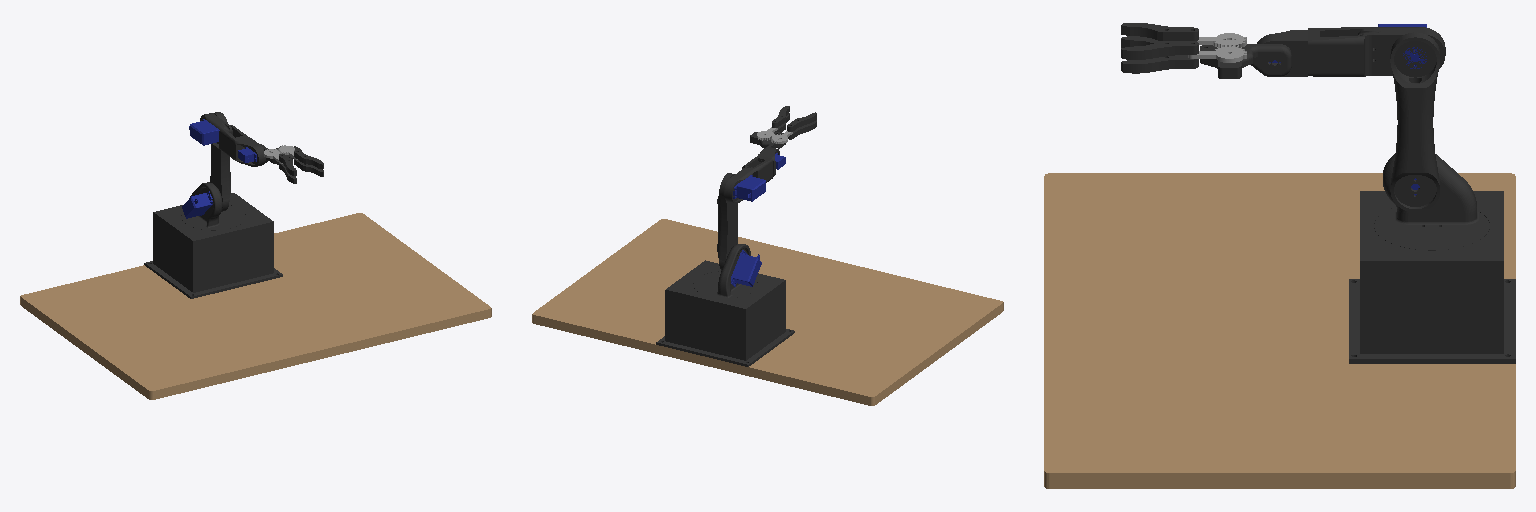
--- What the picture shows (computed from the rendered views, not written in the file) ---
3 views of the same robot in one strip: view 1: azimuth 30°, elevation 25°; view 2: azimuth 150°, elevation 25°; view 3: azimuth 270°, elevation 25° (orthographic).
Robot: robotic_arm — 17 links, 16 joints (6 revolute, 10 fixed); root link world; default pose: all joints at 0.
Visible links, largest first — view 1: base_link, base_v2_1, waist_v6_1, link_1_v5_1, link_2a_v4_1, servomotormg996r_v2_3, servomotormg996r_v2_2; view 2: base_link, base_v2_1, waist_v6_1, link_1_v5_1, link_2a_v4_1, servomotormg996r_v2_2, servomotormg996r_v2_3; view 3: base_link, base_v2_1, link_1_v5_1, waist_v6_1, link_2a_v4_1, gripper_base_v8_1, link_2b_v4_1, gripper_v3_1, gripper_v3_4, gripper_v3_2, gripper_gear_1_v2_1, gripper_gear_2_v2_1.
Link boxes in pixels (x1,y1,x2,y2): base_link: (20, 213, 491, 399); base_v2_1: (144, 193, 282, 298); waist_v6_1: (181, 182, 245, 230); link_1_v5_1: (210, 112, 230, 211); link_2a_v4_1: (200, 113, 249, 160); servomotormg996r_v2_3: (189, 119, 219, 145); servomotormg996r_v2_2: (182, 191, 212, 218); base_link: (532, 219, 1003, 405); base_v2_1: (656, 260, 794, 366); waist_v6_1: (693, 244, 757, 297); link_1_v5_1: (717, 173, 737, 270); link_2a_v4_1: (724, 155, 772, 203); servomotormg996r_v2_2: (731, 250, 761, 286); servomotormg996r_v2_3: (733, 175, 765, 201); base_link: (1044, 173, 1515, 488); base_v2_1: (1349, 191, 1515, 363); link_1_v5_1: (1390, 32, 1439, 212); waist_v6_1: (1374, 154, 1489, 250); link_2a_v4_1: (1308, 27, 1445, 76); gripper_base_v8_1: (1200, 44, 1291, 78); link_2b_v4_1: (1257, 30, 1307, 76); gripper_v3_1: (1121, 41, 1198, 59); gripper_v3_4: (1121, 23, 1198, 40); gripper_v3_2: (1121, 55, 1198, 73); gripper_gear_1_v2_1: (1188, 46, 1246, 62); gripper_gear_2_v2_1: (1197, 33, 1246, 47).
Size in the robot's own frame: 0.595 by 0.395 by 0.2878 metres.
16 mesh visuals loaded from 16 distinct referenced files (16 binary STL).

The robot description file, URDF, robot "robotic_arm":
<?xml version="1.0" ?>
<!-- =================================================================================== -->
<!-- |    This document was autogenerated by xacro from robotic_arm.xacro              | -->
<!-- |    EDITING THIS FILE BY HAND IS NOT RECOMMENDED                                 | -->
<!-- =================================================================================== -->
<robot name="robotic_arm">
  <material name="silver_default">
    <color rgba="0.700 0.700 0.700 1.000"/>
  </material>
  <material name="oak">
    <color rgba="0.7098 0.5882 0.4431 1.000"/>
  </material>
  <material name="pa_12_nylon_pa_603cf_with_eos_p_3d_printers">
    <color rgba="0.24705882352941178 0.24705882352941178 0.24705882352941178 1.0"/>
  </material>
  <material name="paint_enamel_glossy_blue">
    <color rgba="0.18823529411764706 0.23137254901960785 0.5882352941176471 1.0"/>
  </material>
  <material name="opaque160160160">
    <color rgba="0.6274509803921569 0.6274509803921569 0.6274509803921569 1.0"/>
  </material>
  <transmission name="base_waist_joint_tran">
    <type>transmission_interface/SimpleTransmission</type>
    <joint name="base_waist_joint">
      <hardwareInterface>hardware_interface/EffortJointInterface</hardwareInterface>
    </joint>
    <actuator name="base_waist_joint_actr">
      <hardwareInterface>hardware_interface/EffortJointInterface</hardwareInterface>
      <mechanicalReduction>1</mechanicalReduction>
    </actuator>
  </transmission>
  <transmission name="waist_link1_joint_tran">
    <type>transmission_interface/SimpleTransmission</type>
    <joint name="waist_link1_joint">
      <hardwareInterface>hardware_interface/EffortJointInterface</hardwareInterface>
    </joint>
    <actuator name="waist_link1_joint_actr">
      <hardwareInterface>hardware_interface/EffortJointInterface</hardwareInterface>
      <mechanicalReduction>1</mechanicalReduction>
    </actuator>
  </transmission>
  <transmission name="link1_link2_joint_tran">
    <type>transmission_interface/SimpleTransmission</type>
    <joint name="link1_link2_joint">
      <hardwareInterface>hardware_interface/EffortJointInterface</hardwareInterface>
    </joint>
    <actuator name="link1_link2_joint_actr">
      <hardwareInterface>hardware_interface/EffortJointInterface</hardwareInterface>
      <mechanicalReduction>1</mechanicalReduction>
    </actuator>
  </transmission>
  <transmission name="link2_gripperbase_joint_tran">
    <type>transmission_interface/SimpleTransmission</type>
    <joint name="link2_gripperbase_joint">
      <hardwareInterface>hardware_interface/EffortJointInterface</hardwareInterface>
    </joint>
    <actuator name="link2_gripperbase_joint_actr">
      <hardwareInterface>hardware_interface/EffortJointInterface</hardwareInterface>
      <mechanicalReduction>1</mechanicalReduction>
    </actuator>
  </transmission>
  <transmission name="left_gripper_joint_tran">
    <type>transmission_interface/SimpleTransmission</type>
    <joint name="left_gripper_joint">
      <hardwareInterface>hardware_interface/EffortJointInterface</hardwareInterface>
    </joint>
    <actuator name="left_gripper_joint_actr">
      <hardwareInterface>hardware_interface/EffortJointInterface</hardwareInterface>
      <mechanicalReduction>1</mechanicalReduction>
    </actuator>
  </transmission>
  <transmission name="right_gripper_joint_tran">
    <type>transmission_interface/SimpleTransmission</type>
    <joint name="right_gripper_joint">
      <hardwareInterface>hardware_interface/EffortJointInterface</hardwareInterface>
    </joint>
    <actuator name="right_gripper_joint_actr">
      <hardwareInterface>hardware_interface/EffortJointInterface</hardwareInterface>
      <mechanicalReduction>1</mechanicalReduction>
    </actuator>
  </transmission>
  <gazebo>
    <plugin filename="libgazebo_ros2_control.so" name="gazebo_ros2_control">
      <robot_param> robot_description</robot_param>
      <robot_param_node> robot_state_publisher</robot_param_node>
      <parameters>[local-path]/ai_based_sorting_robot_arm/install/robotic_arm_controllers/share/robotic_arm_controllers/config/robot_arm_controllers.yaml</parameters>
    </plugin>
  </gazebo>
  <gazebo reference="base_link">
    <material>Gazebo/Oak</material>
    <mu1>0.2</mu1>
    <mu2>0.2</mu2>
    <self_collide>true</self_collide>
    <gravity>true</gravity>
  </gazebo>
  <gazebo reference="base_v2_1">
    <material>Gazebo/FlatBlack</material>
    <mu1>0.2</mu1>
    <mu2>0.2</mu2>
    <self_collide>true</self_collide>
  </gazebo>
  <gazebo reference="waist_v6_1">
    <material>Gazebo/FlatBlack</material>
    <mu1>0.2</mu1>
    <mu2>0.2</mu2>
    <self_collide>true</self_collide>
  </gazebo>
  <gazebo reference="link_1_v5_1">
    <material>Gazebo/FlatBlack</material>
    <mu1>0.2</mu1>
    <mu2>0.2</mu2>
    <self_collide>true</self_collide>
  </gazebo>
  <gazebo reference="link_2a_v4_1">
    <material>Gazebo/FlatBlack</material>
    <mu1>0.2</mu1>
    <mu2>0.2</mu2>
    <self_collide>true</self_collide>
  </gazebo>
  <gazebo reference="link_2b_v4_1">
    <material>Gazebo/FlatBlack</material>
    <mu1>0.2</mu1>
    <mu2>0.2</mu2>
    <self_collide>true</self_collide>
  </gazebo>
  <gazebo reference="gripper_base_v8_1">
    <material>Gazebo/FlatBlack</material>
    <mu1>0.2</mu1>
    <mu2>0.2</mu2>
    <self_collide>true</self_collide>
  </gazebo>
  <gazebo reference="servomotormicro9g_v2_1">
    <material>Gazebo/Blue</material>
    <mu1>0.2</mu1>
    <mu2>0.2</mu2>
    <self_collide>true</self_collide>
  </gazebo>
  <gazebo reference="servomotormg996r_v2_2">
    <material>Gazebo/Blue</material>
    <mu1>0.2</mu1>
    <mu2>0.2</mu2>
    <self_collide>true</self_collide>
  </gazebo>
  <gazebo reference="servomotormicro9g_v2_2">
    <material>Gazebo/Blue</material>
    <mu1>0.2</mu1>
    <mu2>0.2</mu2>
    <self_collide>true</self_collide>
  </gazebo>
  <gazebo reference="servomotormg996r_v2_3">
    <material>Gazebo/Blue</material>
    <mu1>0.2</mu1>
    <mu2>0.2</mu2>
    <self_collide>true</self_collide>
  </gazebo>
  <gazebo reference="gripper_gear_1_v2_1">
    <material>GazeboGrey</material>
    <mu1>0.2</mu1>
    <mu2>0.2</mu2>
    <self_collide>true</self_collide>
  </gazebo>
  <gazebo reference="gripper_gear_2_v2_1">
    <material>GazeboGrey</material>
    <mu1>0.2</mu1>
    <mu2>0.2</mu2>
    <self_collide>true</self_collide>
  </gazebo>
  <gazebo reference="gripper_v3_1">
    <material>Gazebo/DarkGrey</material>
    <mu1>0.2</mu1>
    <mu2>0.2</mu2>
    <self_collide>true</self_collide>
  </gazebo>
  <gazebo reference="gripper_v3_2">
    <material>Gazebo/DarkGrey</material>
    <mu1>0.2</mu1>
    <mu2>0.2</mu2>
    <self_collide>true</self_collide>
  </gazebo>
  <gazebo reference="gripper_v3_3">
    <material>Gazebo/DarkGrey</material>
    <mu1>0.2</mu1>
    <mu2>0.2</mu2>
    <self_collide>true</self_collide>
  </gazebo>
  <gazebo reference="gripper_v3_4">
    <material>Gazebo/DarkGrey</material>
    <mu1>0.2</mu1>
    <mu2>0.2</mu2>
    <self_collide>true</self_collide>
  </gazebo>
  <ros2_control name="RoboticArmSystem" type="system">
    <hardware>
      <plugin>gazebo_ros2_control/GazeboSystem</plugin>
    </hardware>
    <!-- Interfaces -->
    <joint name="base_waist_joint">
      <command_interface name="position">
        <param name="min">-1.570795</param>
        <param name="max">1.570795</param>
      </command_interface>
      <state_interface name="position"/>
    </joint>
    <joint name="waist_link1_joint">
      <command_interface name="position">
        <param name="min">-1.570795</param>
        <param name="max">1.570795</param>
      </command_interface>
      <state_interface name="position"/>
    </joint>
    <joint name="link1_link2_joint">
      <command_interface name="position">
        <param name="min">0.0</param>
        <param name="max">3.14159</param>
      </command_interface>
      <state_interface name="position"/>
    </joint>
    <joint name="link2_gripperbase_joint">
      <command_interface name="position">
        <param name="min">-1.570795</param>
        <param name="max">1.570795</param>
      </command_interface>
      <state_interface name="position"/>
    </joint>
    <joint name="right_gripper_joint">
      <command_interface name="position">
        <param name="min">0.0</param>
        <param name="max">0.7854</param>
      </command_interface>
      <state_interface name="position"/>
    </joint>
    <joint name="left_gripper_joint">
      <param name="mimic">right_gripper_joint</param>
      <param name="multiplier">1</param>
      <command_interface name="position">
        <param name="min">-0.7854</param>
        <param name="max">0.0</param>
      </command_interface>
      <state_interface name="position"/>
    </joint>
  </ros2_control>
  <!-- Links -->
  <link name="world"/>
  <link name="base_link">
    <inertial>
      <origin rpy="0 0 0" xyz="4.1292719567255465e-17 -0.1275 0.0075"/>
      <mass value="2.5408670074548567"/>
      <inertia ixx="0.033061" ixy="-0.0" ixz="0.0" iyy="0.074955" iyz="0.0" izz="0.107921"/>
    </inertial>
    <visual>
      <origin rpy="0 0 0" xyz="0 0 0"/>
      <geometry>
        <mesh filename="package://robotic_arm_description/meshes/base_link.stl" scale="0.001 0.001 0.001"/>
      </geometry>
      <material name="oak"/>
    </visual>
    <collision>
      <origin rpy="0 0 0" xyz="0 0 0"/>
      <geometry>
        <mesh filename="package://robotic_arm_description/meshes/base_link.stl" scale="0.001 0.001 0.001"/>
      </geometry>
    </collision>
  </link>
  <link name="base_v2_1">
    <inertial>
      <origin rpy="0 0 0" xyz="3.307089559204383e-07 -0.06999939486232201 0.0513656205942673"/>
      <mass value="0.5102582987586253"/>
      <inertia ixx="0.001541" ixy="0.0" ixz="0.0" iyy="0.00162" iyz="0.0" izz="0.002267"/>
    </inertial>
    <visual>
      <origin rpy="0 0 0" xyz="-0.0 -0.07 -0.015"/>
      <geometry>
        <mesh filename="package://robotic_arm_description/meshes/base_v2_1.stl" scale="0.001 0.001 0.001"/>
      </geometry>
      <material name="pa_12_nylon_pa_603cf_with_eos_p_3d_printers"/>
    </visual>
    <collision>
      <origin rpy="0 0 0" xyz="-0.0 -0.07 -0.015"/>
      <geometry>
        <mesh filename="package://robotic_arm_description/meshes/base_v2_1.stl" scale="0.001 0.001 0.001"/>
      </geometry>
    </collision>
  </link>
  <link name="waist_v6_1">
    <inertial>
      <origin rpy="0 0 0" xyz="-0.007317934227206862 -0.0014787118544255873 0.019240916153628926"/>
      <mass value="0.08011233502112002"/>
      <inertia ixx="7.4e-05" ixy="-0.0" ixz="7e-06" iyy="5.5e-05" iyz="7e-06" izz="6.5e-05"/>
    </inertial>
    <visual>
      <origin rpy="0 0 0" xyz="-0.0 -0.0 -0.101"/>
      <geometry>
        <mesh filename="package://robotic_arm_description/meshes/waist_v6_1.stl" scale="0.001 0.001 0.001"/>
      </geometry>
      <material name="pa_12_nylon_pa_603cf_with_eos_p_3d_printers"/>
    </visual>
    <collision>
      <origin rpy="0 0 0" xyz="-0.0 -0.0 -0.101"/>
      <geometry>
        <mesh filename="package://robotic_arm_description/meshes/waist_v6_1.stl" scale="0.001 0.001 0.001"/>
      </geometry>
    </collision>
  </link>
  <link name="servomotormg996r_v2_2">
    <inertial>
      <origin rpy="0 0 0" xyz="-0.010054336562552477 0.020152986183403273 -0.013081986774102439"/>
      <mass value="0.2658706317147462"/>
      <inertia ixx="4.7e-05" ixy="2e-06" ixz="-2e-06" iyy="6.1e-05" iyz="1.5e-05" izz="6.1e-05"/>
    </inertial>
    <visual>
      <origin rpy="0 0 0" xyz="0.018 0.027168 -0.147467"/>
      <geometry>
        <mesh filename="package://robotic_arm_description/meshes/servomotormg996r_v2_2.stl" scale="0.001 0.001 0.001"/>
      </geometry>
      <material name="paint_enamel_glossy_blue"/>
    </visual>
    <collision>
      <origin rpy="0 0 0" xyz="0.018 0.027168 -0.147467"/>
      <geometry>
        <mesh filename="package://robotic_arm_description/meshes/servomotormg996r_v2_2.stl" scale="0.001 0.001 0.001"/>
      </geometry>
    </collision>
  </link>
  <link name="link_1_v5_1">
    <inertial>
      <origin rpy="0 0 0" xyz="0.0078177298783616 -2.360587438056394e-07 0.05999982401434481"/>
      <mass value="0.07112302510728019"/>
      <inertia ixx="0.000121" ixy="0.0" ixz="0.0" iyy="0.000116" iyz="-0.0" izz="1e-05"/>
    </inertial>
    <visual>
      <origin rpy="0 0 0" xyz="0.004 0.01391 -0.14128"/>
      <geometry>
        <mesh filename="package://robotic_arm_description/meshes/link_1_v5_1.stl" scale="0.001 0.001 0.001"/>
      </geometry>
      <material name="pa_12_nylon_pa_603cf_with_eos_p_3d_printers"/>
    </visual>
    <collision>
      <origin rpy="0 0 0" xyz="0.004 0.01391 -0.14128"/>
      <geometry>
        <mesh filename="package://robotic_arm_description/meshes/link_1_v5_1.stl" scale="0.001 0.001 0.001"/>
      </geometry>
    </collision>
  </link>
  <link name="link_2a_v4_1">
    <inertial>
      <origin rpy="0 0 0" xyz="-0.005701255904649023 -0.04181110897598475 -3.112432127394538e-05"/>
      <mass value="0.05167009815655824"/>
      <inertia ixx="6e-05" ixy="0.0" ixz="0.0" iyy="1e-05" iyz="-0.0" izz="5.6e-05"/>
    </inertial>
    <visual>
      <origin rpy="0 0 0" xyz="0.004 0.01391 -0.26128"/>
      <geometry>
        <mesh filename="package://robotic_arm_description/meshes/link_2a_v4_1.stl" scale="0.001 0.001 0.001"/>
      </geometry>
      <material name="pa_12_nylon_pa_603cf_with_eos_p_3d_printers"/>
    </visual>
    <collision>
      <origin rpy="0 0 0" xyz="0.004 0.01391 -0.26128"/>
      <geometry>
        <mesh filename="package://robotic_arm_description/meshes/link_2a_v4_1.stl" scale="0.001 0.001 0.001"/>
      </geometry>
    </collision>
  </link>
  <link name="link_2b_v4_1">
    <inertial>
      <origin rpy="0 0 0" xyz="-0.008613311986319927 -0.017710429447622786 -4.6451556616200484e-05"/>
      <mass value="0.017891783436233155"/>
      <inertia ixx="5e-06" ixy="1e-06" ixz="-0.0" iyy="3e-06" iyz="0.0" izz="4e-06"/>
    </inertial>
    <visual>
      <origin rpy="0 0 0" xyz="-0.004 0.10366 -0.26128"/>
      <geometry>
        <mesh filename="package://robotic_arm_description/meshes/link_2b_v4_1.stl" scale="0.001 0.001 0.001"/>
      </geometry>
      <material name="pa_12_nylon_pa_603cf_with_eos_p_3d_printers"/>
    </visual>
    <collision>
      <origin rpy="0 0 0" xyz="-0.004 0.10366 -0.26128"/>
      <geometry>
        <mesh filename="package://robotic_arm_description/meshes/link_2b_v4_1.stl" scale="0.001 0.001 0.001"/>
      </geometry>
    </collision>
  </link>
  <link name="servomotormg996r_v2_3">
    <inertial>
      <origin rpy="0 0 0" xyz="-0.010054336562552536 0.024498917400786264 0.005000000417687334"/>
      <mass value="0.2658706317147462"/>
      <inertia ixx="4.7e-05" ixy="-2e-06" ixz="-0.0" iyy="4.6e-05" iyz="-0.0" izz="7.5e-05"/>
    </inertial>
    <visual>
      <origin rpy="0 0 0" xyz="0.015 0.04866 -0.25628"/>
      <geometry>
        <mesh filename="package://robotic_arm_description/meshes/servomotormg996r_v2_3.stl" scale="0.001 0.001 0.001"/>
      </geometry>
      <material name="paint_enamel_glossy_blue"/>
    </visual>
    <collision>
      <origin rpy="0 0 0" xyz="0.015 0.04866 -0.25628"/>
      <geometry>
        <mesh filename="package://robotic_arm_description/meshes/servomotormg996r_v2_3.stl" scale="0.001 0.001 0.001"/>
      </geometry>
    </collision>
  </link>
  <link name="servomotormicro9g_v2_1">
    <inertial>
      <origin rpy="0 0 0" xyz="-0.005541210223247456 0.013371159759380774 -2.7755575615628914e-16"/>
      <mass value="0.05595068017526718"/>
      <inertia ixx="3e-06" ixy="0.0" ixz="0.0" iyy="4e-06" iyz="0.0" izz="6e-06"/>
    </inertial>
    <visual>
      <origin rpy="0 0 0" xyz="0.0065 0.14046 -0.26128"/>
      <geometry>
        <mesh filename="package://robotic_arm_description/meshes/servomotormicro9g_v2_1.stl" scale="0.001 0.001 0.001"/>
      </geometry>
      <material name="paint_enamel_glossy_blue"/>
    </visual>
    <collision>
      <origin rpy="0 0 0" xyz="0.0065 0.14046 -0.26128"/>
      <geometry>
        <mesh filename="package://robotic_arm_description/meshes/servomotormicro9g_v2_1.stl" scale="0.001 0.001 0.001"/>
      </geometry>
    </collision>
  </link>
  <link name="gripper_base_v8_1">
    <inertial>
      <origin rpy="0 0 0" xyz="0.011837914619012749 -0.02831046923426539 0.006706375607900994"/>
      <mass value="0.020668522851976897"/>
      <inertia ixx="9e-06" ixy="2e-06" ixz="-0.0" iyy="4e-06" iyz="1e-06" izz="1.1e-05"/>
    </inertial>
    <visual>
      <origin rpy="0 0 0" xyz="-0.004 0.13166 -0.26128"/>
      <geometry>
        <mesh filename="package://robotic_arm_description/meshes/gripper_base_v8_1.stl" scale="0.001 0.001 0.001"/>
      </geometry>
      <material name="pa_12_nylon_pa_603cf_with_eos_p_3d_printers"/>
    </visual>
    <collision>
      <origin rpy="0 0 0" xyz="-0.004 0.13166 -0.26128"/>
      <geometry>
        <mesh filename="package://robotic_arm_description/meshes/gripper_base_v8_1.stl" scale="0.001 0.001 0.001"/>
      </geometry>
    </collision>
  </link>
  <link name="gripper_gear_1_v2_1">
    <inertial>
      <origin rpy="0 0 0" xyz="-0.0005644997090396842 -0.005402189148709879 0.002000000134110169"/>
      <mass value="0.0029250313733063305"/>
      <inertia ixx="0.0" ixy="0.0" ixz="0.0" iyy="0.0" iyz="0.0" izz="1e-06"/>
    </inertial>
    <visual>
      <origin rpy="0 0 0" xyz="-0.0299 0.16966 -0.27528"/>
      <geometry>
        <mesh filename="package://robotic_arm_description/meshes/gripper_gear_1_v2_1.stl" scale="0.001 0.001 0.001"/>
      </geometry>
      <material name="opaque160160160"/>
    </visual>
    <collision>
      <origin rpy="0 0 0" xyz="-0.0299 0.16966 -0.27528"/>
      <geometry>
        <mesh filename="package://robotic_arm_description/meshes/gripper_gear_1_v2_1.stl" scale="0.001 0.001 0.001"/>
      </geometry>
    </collision>
  </link>
  <link name="gripper_v3_1">
    <inertial>
      <origin rpy="0 0 0" xyz="0.004099853901063728 -0.026539310482414202 0.0042500001341101434"/>
      <mass value="0.005742804742280986"/>
      <inertia ixx="2e-06" ixy="0.0" ixz="-0.0" iyy="0.0" iyz="0.0" izz="2e-06"/>
    </inertial>
    <visual>
      <origin rpy="0 0 0" xyz="-0.0299 0.20041 -0.27928"/>
      <geometry>
        <mesh filename="package://robotic_arm_description/meshes/gripper_v3_1.stl" scale="0.001 0.001 0.001"/>
      </geometry>
      <material name="pa_12_nylon_pa_603cf_with_eos_p_3d_printers"/>
    </visual>
    <collision>
      <origin rpy="0 0 0" xyz="-0.0299 0.20041 -0.27928"/>
      <geometry>
        <mesh filename="package://robotic_arm_description/meshes/gripper_v3_1.stl" scale="0.001 0.001 0.001"/>
      </geometry>
    </collision>
  </link>
  <link name="gripper_v3_2">
    <inertial>
      <origin rpy="0 0 0" xyz="0.004099853901063589 -0.026539310482414286 -0.004249999865889864"/>
      <mass value="0.005742804742280986"/>
      <inertia ixx="2e-06" ixy="0.0" ixz="0.0" iyy="0.0" iyz="0.0" izz="2e-06"/>
    </inertial>
    <visual>
      <origin rpy="0 0 0" xyz="-0.0299 0.20041 -0.27528"/>
      <geometry>
        <mesh filename="package://robotic_arm_description/meshes/gripper_v3_2.stl" scale="0.001 0.001 0.001"/>
      </geometry>
      <material name="pa_12_nylon_pa_603cf_with_eos_p_3d_printers"/>
    </visual>
    <collision>
      <origin rpy="0 0 0" xyz="-0.0299 0.20041 -0.27528"/>
      <geometry>
        <mesh filename="package://robotic_arm_description/meshes/gripper_v3_2.stl" scale="0.001 0.001 0.001"/>
      </geometry>
    </collision>
  </link>
  <link name="gripper_gear_2_v2_1">
    <inertial>
      <origin rpy="0 0 0" xyz="0.0005811920264956459 -0.005561932438407968 0.0020000001341103357"/>
      <mass value="0.0028410220441566826"/>
      <inertia ixx="0.0" ixy="-0.0" ixz="0.0" iyy="0.0" iyz="0.0" izz="0.0"/>
    </inertial>
    <visual>
      <origin rpy="0 0 0" xyz="-0.003 0.16966 -0.27528"/>
      <geometry>
        <mesh filename="package://robotic_arm_description/meshes/gripper_gear_2_v2_1.stl" scale="0.001 0.001 0.001"/>
      </geometry>
      <material name="opaque160160160"/>
    </visual>
    <collision>
      <origin rpy="0 0 0" xyz="-0.003 0.16966 -0.27528"/>
      <geometry>
        <mesh filename="package://robotic_arm_description/meshes/gripper_gear_2_v2_1.stl" scale="0.001 0.001 0.001"/>
      </geometry>
    </collision>
  </link>
  <link name="gripper_v3_3">
    <inertial>
      <origin rpy="0 0 0" xyz="-0.004099853901064021 -0.026539310482414313 -0.004249999865889698"/>
      <mass value="0.005742804742280986"/>
      <inertia ixx="2e-06" ixy="-0.0" ixz="-0.0" iyy="0.0" iyz="0.0" izz="2e-06"/>
    </inertial>
    <visual>
      <origin rpy="0 0 0" xyz="-0.003 0.20041 -0.27528"/>
      <geometry>
        <mesh filename="package://robotic_arm_description/meshes/gripper_v3_3.stl" scale="0.001 0.001 0.001"/>
      </geometry>
      <material name="pa_12_nylon_pa_603cf_with_eos_p_3d_printers"/>
    </visual>
    <collision>
      <origin rpy="0 0 0" xyz="-0.003 0.20041 -0.27528"/>
      <geometry>
        <mesh filename="package://robotic_arm_description/meshes/gripper_v3_3.stl" scale="0.001 0.001 0.001"/>
      </geometry>
    </collision>
  </link>
  <link name="gripper_v3_4">
    <inertial>
      <origin rpy="0 0 0" xyz="-0.004099853901064242 -0.026539310482414286 0.004250000134110088"/>
      <mass value="0.005742804742280986"/>
      <inertia ixx="2e-06" ixy="-0.0" ixz="-0.0" iyy="0.0" iyz="-0.0" izz="2e-06"/>
    </inertial>
    <visual>
      <origin rpy="0 0 0" xyz="-0.003 0.20041 -0.27928"/>
      <geometry>
        <mesh filename="package://robotic_arm_description/meshes/gripper_v3_4.stl" scale="0.001 0.001 0.001"/>
      </geometry>
      <material name="pa_12_nylon_pa_603cf_with_eos_p_3d_printers"/>
    </visual>
    <collision>
      <origin rpy="0 0 0" xyz="-0.003 0.20041 -0.27928"/>
      <geometry>
        <mesh filename="package://robotic_arm_description/meshes/gripper_v3_4.stl" scale="0.001 0.001 0.001"/>
      </geometry>
    </collision>
  </link>
  <!-- Joints -->
  <joint name="virtual_joint" type="fixed">
    <origin rpy="0.0 0.0 0.0" xyz="0.0 0.0 0.0"/>
    <parent link="world"/>
    <child link="base_link"/>
  </joint>
  <joint name="rigid_1" type="fixed">
    <origin rpy="0 0 0" xyz="0.0 0.07 0.015"/>
    <parent link="base_link"/>
    <child link="base_v2_1"/>
  </joint>
  <joint name="base_waist_joint" type="revolute">
    <origin rpy="0 0 0" xyz="0.0 -0.07 0.086"/>
    <parent link="base_v2_1"/>
    <child link="waist_v6_1"/>
    <axis xyz="0.0 0.0 1.0"/>
    <dynamics damping="10.0" friction="5.0"/>
    <limit effort="100" lower="-1.570796" upper="1.570796" velocity="100"/>
  </joint>
  <joint name="waist_link1_joint" type="revolute">
    <origin rpy="0 0 0" xyz="-0.004 -0.01391 0.04028"/>
    <parent link="waist_v6_1"/>
    <child link="link_1_v5_1"/>
    <axis xyz="1.0 0.0 0.0"/>
    <dynamics damping="10.0" friction="5.0"/>
    <limit effort="100" lower="-1.570796" upper="1.570796" velocity="100"/>
  </joint>
  <joint name="link1_link2_joint" type="revolute">
    <origin rpy="0 0 0" xyz="0.0 0.0 0.12"/>
    <parent link="link_1_v5_1"/>
    <child link="link_2a_v4_1"/>
    <axis xyz="-1.0 0.0 0.0"/>
    <dynamics damping="10.0" friction="5.0"/>
    <limit effort="100" lower="0.0" upper="3.141593" velocity="100"/>
  </joint>
  <joint name="link2_gripperbase_joint" type="revolute">
    <origin rpy="0 0 0" xyz="0.0 -0.028 0.0"/>
    <parent link="link_2b_v4_1"/>
    <child link="gripper_base_v8_1"/>
    <axis xyz="1.0 -0.0 0.0"/>
    <dynamics damping="10.0" friction="5.0"/>
    <limit effort="100" lower="-1.570796" upper="1.570796" velocity="100"/>
  </joint>
  <joint name="rigid_2" type="fixed">
    <origin rpy="0 0 0" xyz="-0.018 -0.027168 0.046467"/>
    <parent link="waist_v6_1"/>
    <child link="servomotormg996r_v2_2"/>
  </joint>
  <joint name="rigid_3" type="fixed">
    <origin rpy="0 0 0" xyz="0.008 -0.08975 0.0"/>
    <parent link="link_2a_v4_1"/>
    <child link="link_2b_v4_1"/>
  </joint>
  <joint name="rigid_4" type="fixed">
    <origin rpy="0 0 0" xyz="-0.011 -0.03475 -0.005"/>
    <parent link="link_2a_v4_1"/>
    <child link="servomotormg996r_v2_3"/>
  </joint>
  <joint name="rigid_5" type="fixed">
    <origin rpy="0 0 0" xyz="-0.0105 -0.0368 0.0"/>
    <parent link="link_2b_v4_1"/>
    <child link="servomotormicro9g_v2_1"/>
  </joint>
  <joint name="rigid_6" type="fixed">
    <origin rpy="0 0 0" xyz="0.0 -0.03075 0.004"/>
    <parent link="gripper_gear_1_v2_1"/>
    <child link="gripper_v3_1"/>
  </joint>
  <joint name="rigid_7" type="fixed">
    <origin rpy="0 0 0" xyz="0.0 -0.03075 0.0"/>
    <parent link="gripper_gear_1_v2_1"/>
    <child link="gripper_v3_2"/>
  </joint>
  <joint name="right_gripper_joint" type="revolute">
    <origin rpy="0 0 0" xyz="-0.001 -0.038 0.014"/>
    <parent link="gripper_base_v8_1"/>
    <child link="gripper_gear_2_v2_1"/>
    <axis xyz="0.0 0.0 -1.0"/>
    <dynamics damping="10.0" friction="5.0"/>
    <limit effort="100" lower="0.0" upper="0.7854" velocity="100"/>
  </joint>
  <joint name="left_gripper_joint" type="revolute">
    <origin rpy="0 0 0" xyz="0.0259 -0.038 0.014"/>
    <parent link="gripper_base_v8_1"/>
    <child link="gripper_gear_1_v2_1"/>
    <axis xyz="-0.0 -0.0 1.0"/>
    <dynamics damping="10.0" friction="5.0"/>
    <mimic joint="right_gripper_joint" multiplier="1.0"/>
    <limit effort="100" lower="0.0" upper="-0.7854" velocity="100"/>
  </joint>
  <joint name="rigid_8" type="fixed">
    <origin rpy="0 0 0" xyz="0.0 -0.03075 0.0"/>
    <parent link="gripper_gear_2_v2_1"/>
    <child link="gripper_v3_3"/>
  </joint>
  <joint name="rigid_9" type="fixed">
    <origin rpy="0 0 0" xyz="0.0 -0.03075 0.004"/>
    <parent link="gripper_gear_2_v2_1"/>
    <child link="gripper_v3_4"/>
  </joint>
</robot>
